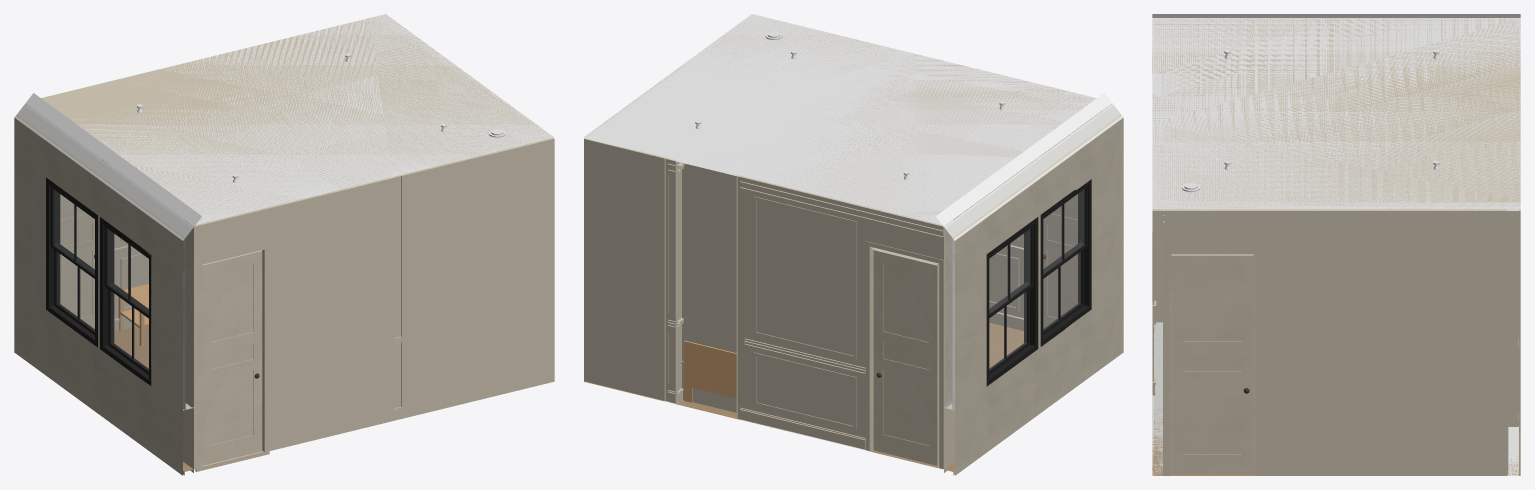
The model's file is green-bedroom-2cf6008d2f4e.glb.
The picture shows the model from 3 angles, left to right: view 1: azimuth 30°, elevation 25°; view 2: azimuth 150°, elevation 25°; view 3: azimuth 270°, elevation 25°; orthographic projection. The views are drawn at different scales.
Visible parts, largest first — view 1: green-bedroom-eb02897c2e79e2b1, green-bedroom-e8793759323e04f0, green-bedroom-9d91b47435c6fb33, green-bedroom-312b4ac1be39223d, green-bedroom-7406100458e293ce, green-bedroom-33ee0b466567e5f0, green-bedroom-eea30be35ce76d8a, green-bedroom-b27266f3159d5f34, green-bedroom-5e646f76b0244fe8, green-bedroom-39b94aca90fa4b53, green-bedroom-3a4d9d62ecd7be1c, green-bedroom-442e5a19ed849720 (+5 smaller); view 2: green-bedroom-9d91b47435c6fb33, green-bedroom-b6ab44e8ab2b63f4, green-bedroom-8d8280a2b3ef8b4c, green-bedroom-312b4ac1be39223d, green-bedroom-e8793759323e04f0, green-bedroom-5e646f76b0244fe8, green-bedroom-33ee0b466567e5f0, green-bedroom-689020e0fc226264, green-bedroom-eea30be35ce76d8a, green-bedroom-b27266f3159d5f34, green-bedroom-7406100458e293ce, green-bedroom-4fe5579be934d30a (+10 smaller); view 3: green-bedroom-64efeecf845bccca, green-bedroom-9d91b47435c6fb33, green-bedroom-e8793759323e04f0, green-bedroom-b50904fb6ee0544e, green-bedroom-eb02897c2e79e2b1, green-bedroom-689020e0fc226264, green-bedroom-34287d1b870c745c, green-bedroom-2575515a05775d9e, green-bedroom-442e5a19ed849720, green-bedroom-8d8280a2b3ef8b4c, green-bedroom-4fe5579be934d30a.
Boxes of the visible parts, bbox=[...] form: green-bedroom-eb02897c2e79e2b1: bbox=[188, 139, 554, 469]; green-bedroom-e8793759323e04f0: bbox=[27, 14, 552, 224]; green-bedroom-9d91b47435c6fb33: bbox=[25, 14, 554, 226]; green-bedroom-312b4ac1be39223d: bbox=[14, 116, 184, 409]; green-bedroom-7406100458e293ce: bbox=[202, 250, 262, 465]; green-bedroom-33ee0b466567e5f0: bbox=[14, 287, 193, 475]; green-bedroom-eea30be35ce76d8a: bbox=[46, 177, 97, 347]; green-bedroom-b27266f3159d5f34: bbox=[100, 217, 151, 386]; green-bedroom-5e646f76b0244fe8: bbox=[60, 138, 100, 328]; green-bedroom-39b94aca90fa4b53: bbox=[17, 105, 192, 409]; green-bedroom-3a4d9d62ecd7be1c: bbox=[24, 103, 193, 407]; green-bedroom-442e5a19ed849720: bbox=[201, 247, 266, 467]; green-bedroom-9d91b47435c6fb33: bbox=[583, 14, 1112, 226]; green-bedroom-b6ab44e8ab2b63f4: bbox=[736, 176, 949, 469]; green-bedroom-8d8280a2b3ef8b4c: bbox=[584, 138, 681, 403]; green-bedroom-312b4ac1be39223d: bbox=[953, 116, 1123, 409]; green-bedroom-e8793759323e04f0: bbox=[585, 15, 1110, 224]; green-bedroom-5e646f76b0244fe8: bbox=[873, 250, 937, 465]; green-bedroom-33ee0b466567e5f0: bbox=[944, 287, 1123, 475]; green-bedroom-689020e0fc226264: bbox=[676, 160, 737, 418]; green-bedroom-eea30be35ce76d8a: bbox=[986, 217, 1038, 386]; green-bedroom-b27266f3159d5f34: bbox=[1040, 179, 1091, 346]; green-bedroom-7406100458e293ce: bbox=[1039, 137, 1077, 328]; green-bedroom-4fe5579be934d30a: bbox=[664, 158, 676, 403]; green-bedroom-64efeecf845bccca: bbox=[1163, 209, 1508, 475]; green-bedroom-9d91b47435c6fb33: bbox=[1152, 18, 1520, 210]; green-bedroom-e8793759323e04f0: bbox=[1152, 14, 1520, 209]; green-bedroom-b50904fb6ee0544e: bbox=[1171, 254, 1253, 474]; green-bedroom-eb02897c2e79e2b1: bbox=[1152, 209, 1164, 475]; green-bedroom-689020e0fc226264: bbox=[1508, 211, 1518, 426]; green-bedroom-34287d1b870c745c: bbox=[1169, 252, 1256, 475]; green-bedroom-2575515a05775d9e: bbox=[1152, 284, 1520, 475]; green-bedroom-442e5a19ed849720: bbox=[1156, 211, 1162, 322]; green-bedroom-8d8280a2b3ef8b4c: bbox=[1507, 209, 1518, 475]; green-bedroom-4fe5579be934d30a: bbox=[1519, 211, 1520, 432].
Size of the model in its own units: 4.64 by 3.04 by 3.65.
26 materials, 5 textured.
